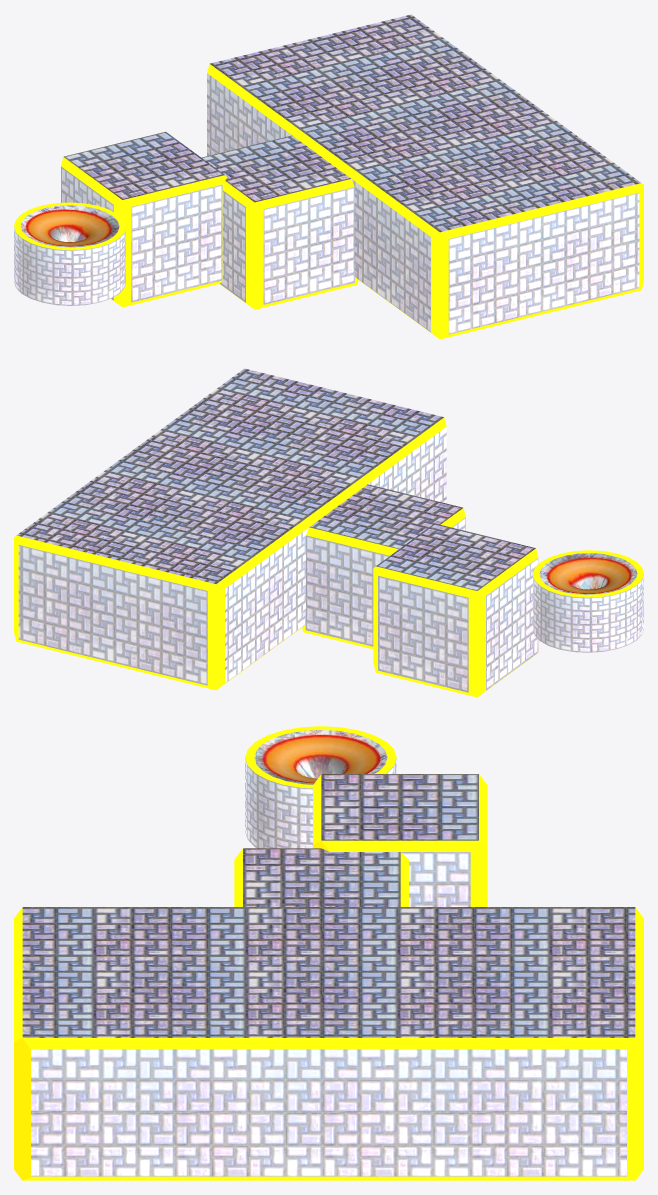
Rendered from level01.glb.
3 renders of one model, top to bottom at view 1: azimuth 30°, elevation 25°; view 2: azimuth 150°, elevation 25°; view 3: azimuth 270°, elevation 25°, orthographic. The views are drawn at different scales.
Parts seen in each view (by area): view 1: Level; view 2: Level; view 3: Level.
Boxes of the visible parts, x1,y1,x2,y2 form: Level: (14,14,643,339); Level: (14,368,643,697); Level: (14,726,643,1180).
Size of what is drawn, in the model's own units: 15 by 3.16 by 11.99.
Materials: 4 (3 with a texture image).
